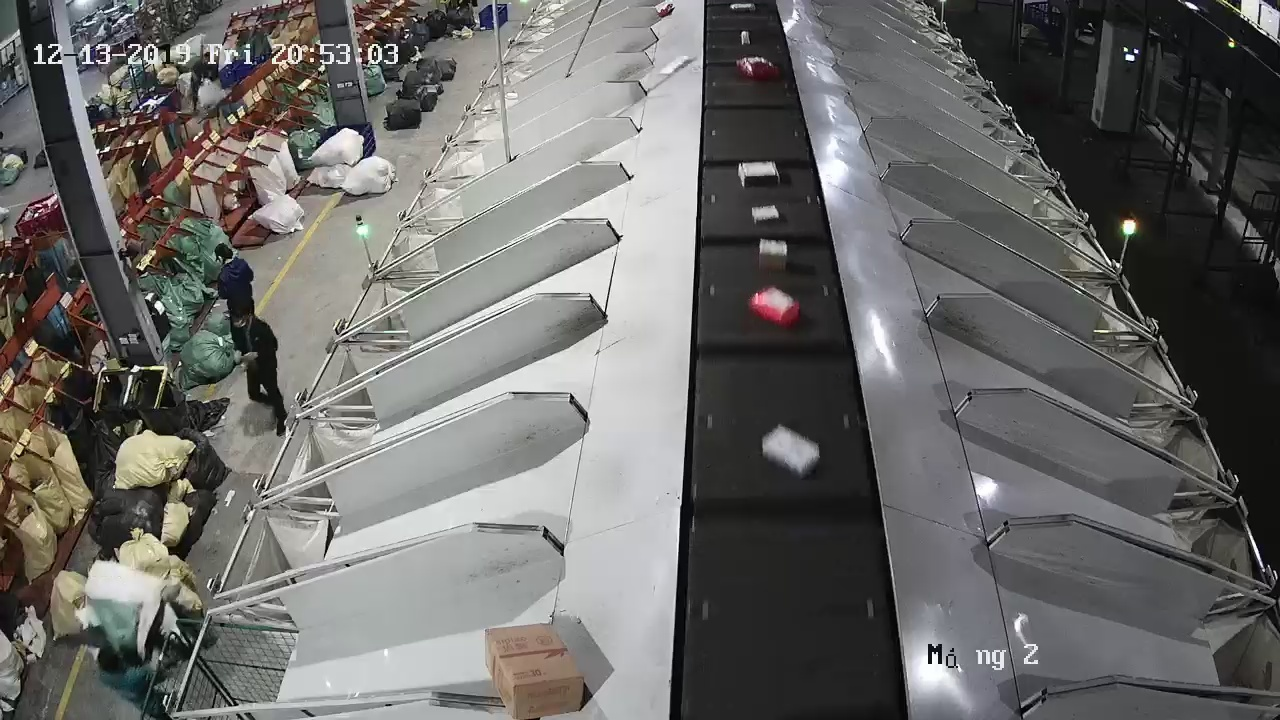parcel: (757, 237, 789, 273)
